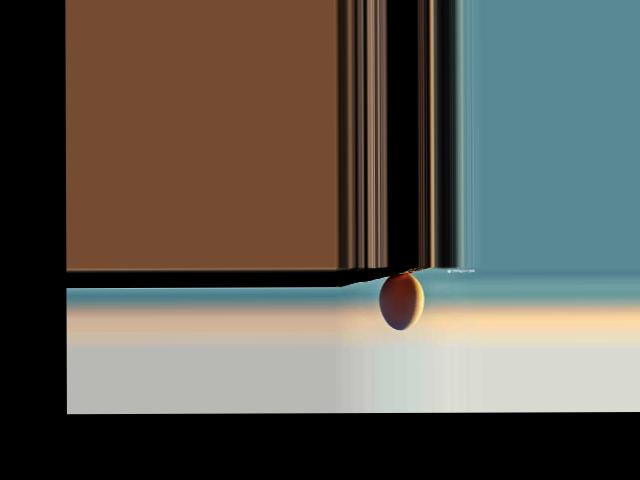egg: (379, 273, 424, 330)
